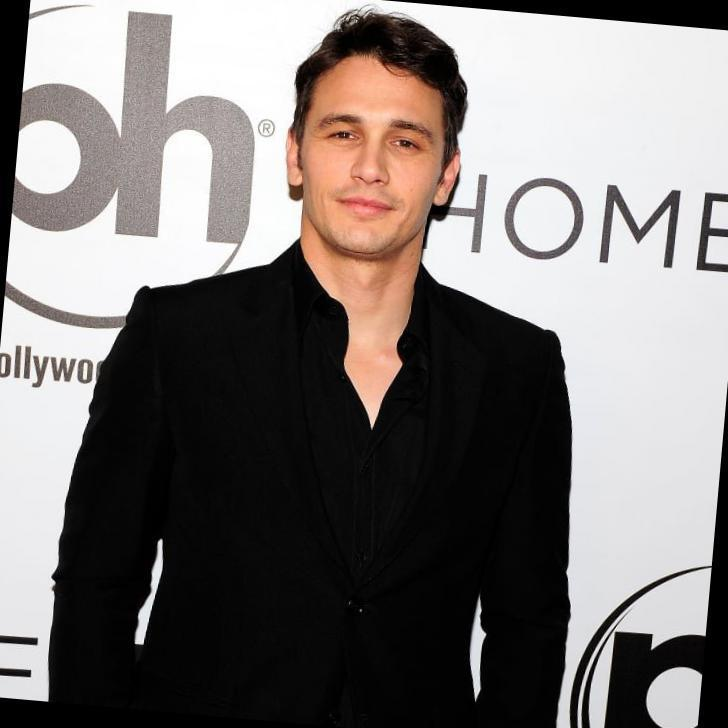Sober: (307, 60, 430, 255)
